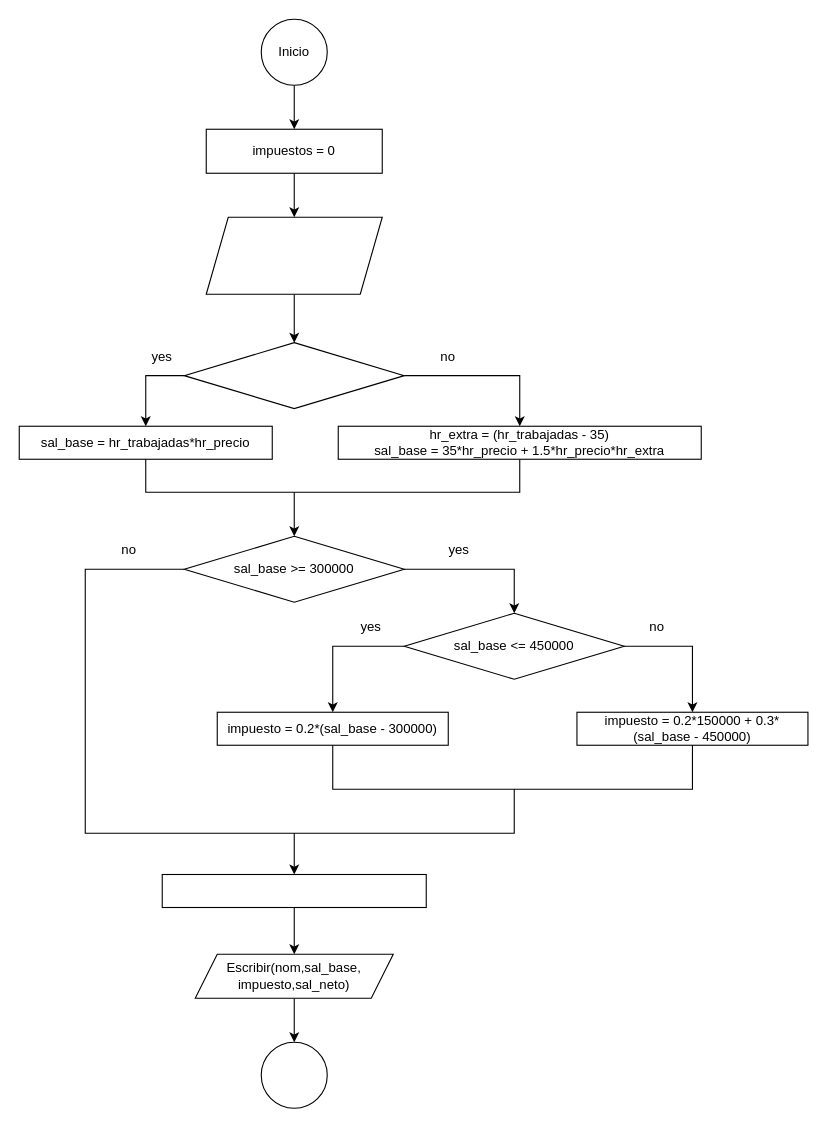
Image size: 827x1128. Some labels were removed from this diagram. The shapes that lost their labels are listed below. From the top down, each one's box as (x1, y1, x2, y2) in pixels, then its label:
(205, 216, 382, 294): Leer(nom) Leer(hr_trabajadas) Leer(hr_precio)
(183, 342, 404, 409): hr_trabajadas <= 35
(161, 873, 426, 908): sal_neto = sal_base - impuesto
(260, 1041, 327, 1108): Fin
